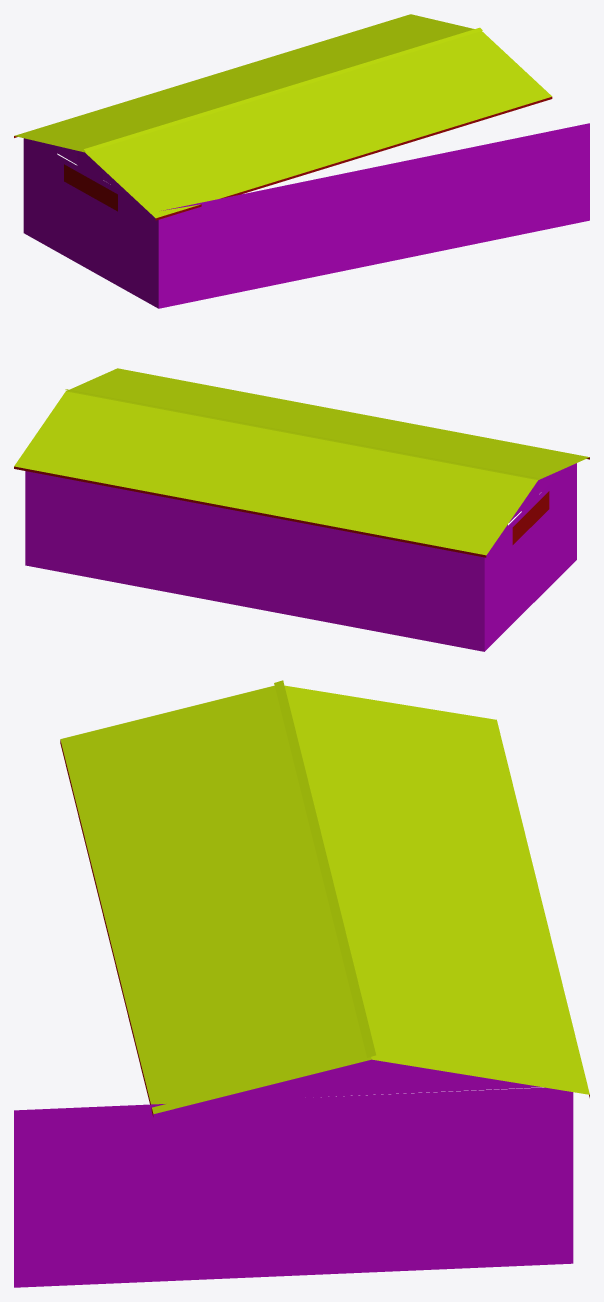
File: bgj_197.glb
3 views of the same model, one above another, from view 1: azimuth 30°, elevation 25°; view 2: azimuth 150°, elevation 25°; view 3: azimuth 270°, elevation 25° (orthographic). The views are drawn at different scales.
Parts seen in each view (by area): view 1: bgj_197; view 2: bgj_197; view 3: bgj_197.
Boxes of the visible parts, left/top/right/bottom form: bgj_197: left=14, top=14, right=589, bottom=308; bgj_197: left=14, top=368, right=589, bottom=651; bgj_197: left=14, top=680, right=589, bottom=1287.
Size of the model in its own units: 24.3 by 6.42 by 15.
